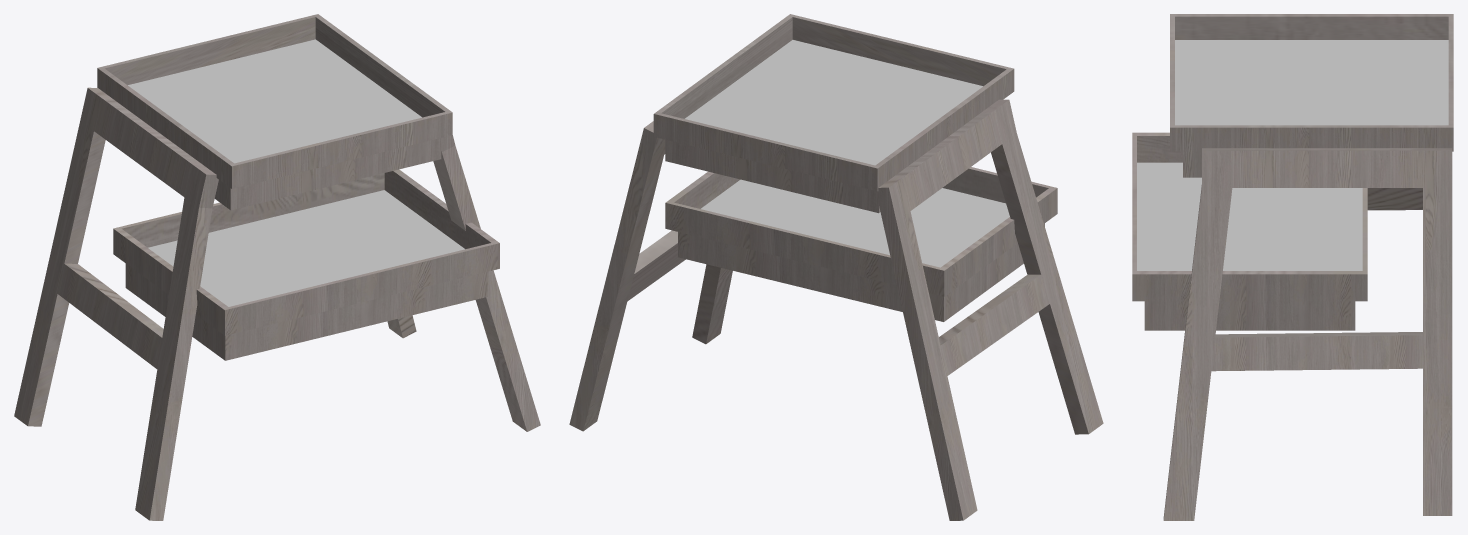
Rendered from WoodenStand.fbx.
The picture shows the model from 3 angles, left to right: view 1: azimuth 30°, elevation 25°; view 2: azimuth 150°, elevation 25°; view 3: azimuth 270°, elevation 25°; orthographic projection. The views are drawn at different scales.
Parts seen in each view (by area): view 1: WoodenStand; view 2: WoodenStand; view 3: WoodenStand.
Boxes of the visible parts, x1,y1,x2,y2 form: WoodenStand: [14, 14, 540, 520]; WoodenStand: [569, 14, 1103, 520]; WoodenStand: [1132, 14, 1453, 520].
Size of the model in its own units: 117 by 95.86 by 79.09.
